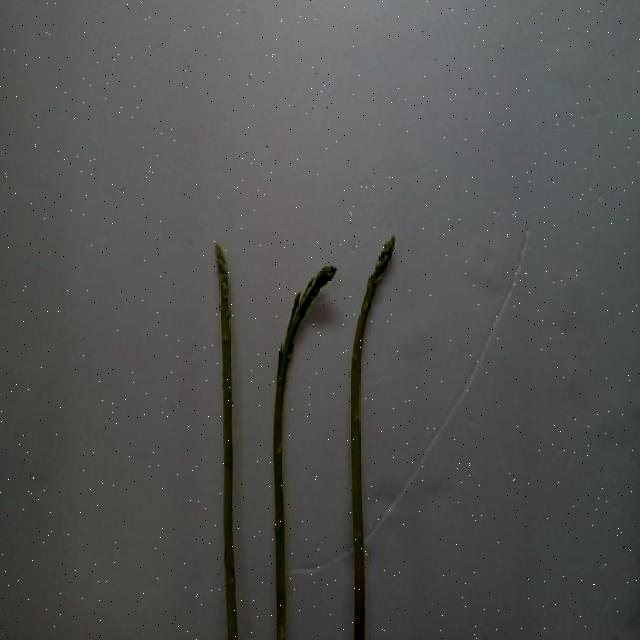aspargus: (273, 268, 337, 640), (352, 241, 398, 640), (218, 246, 242, 640)
